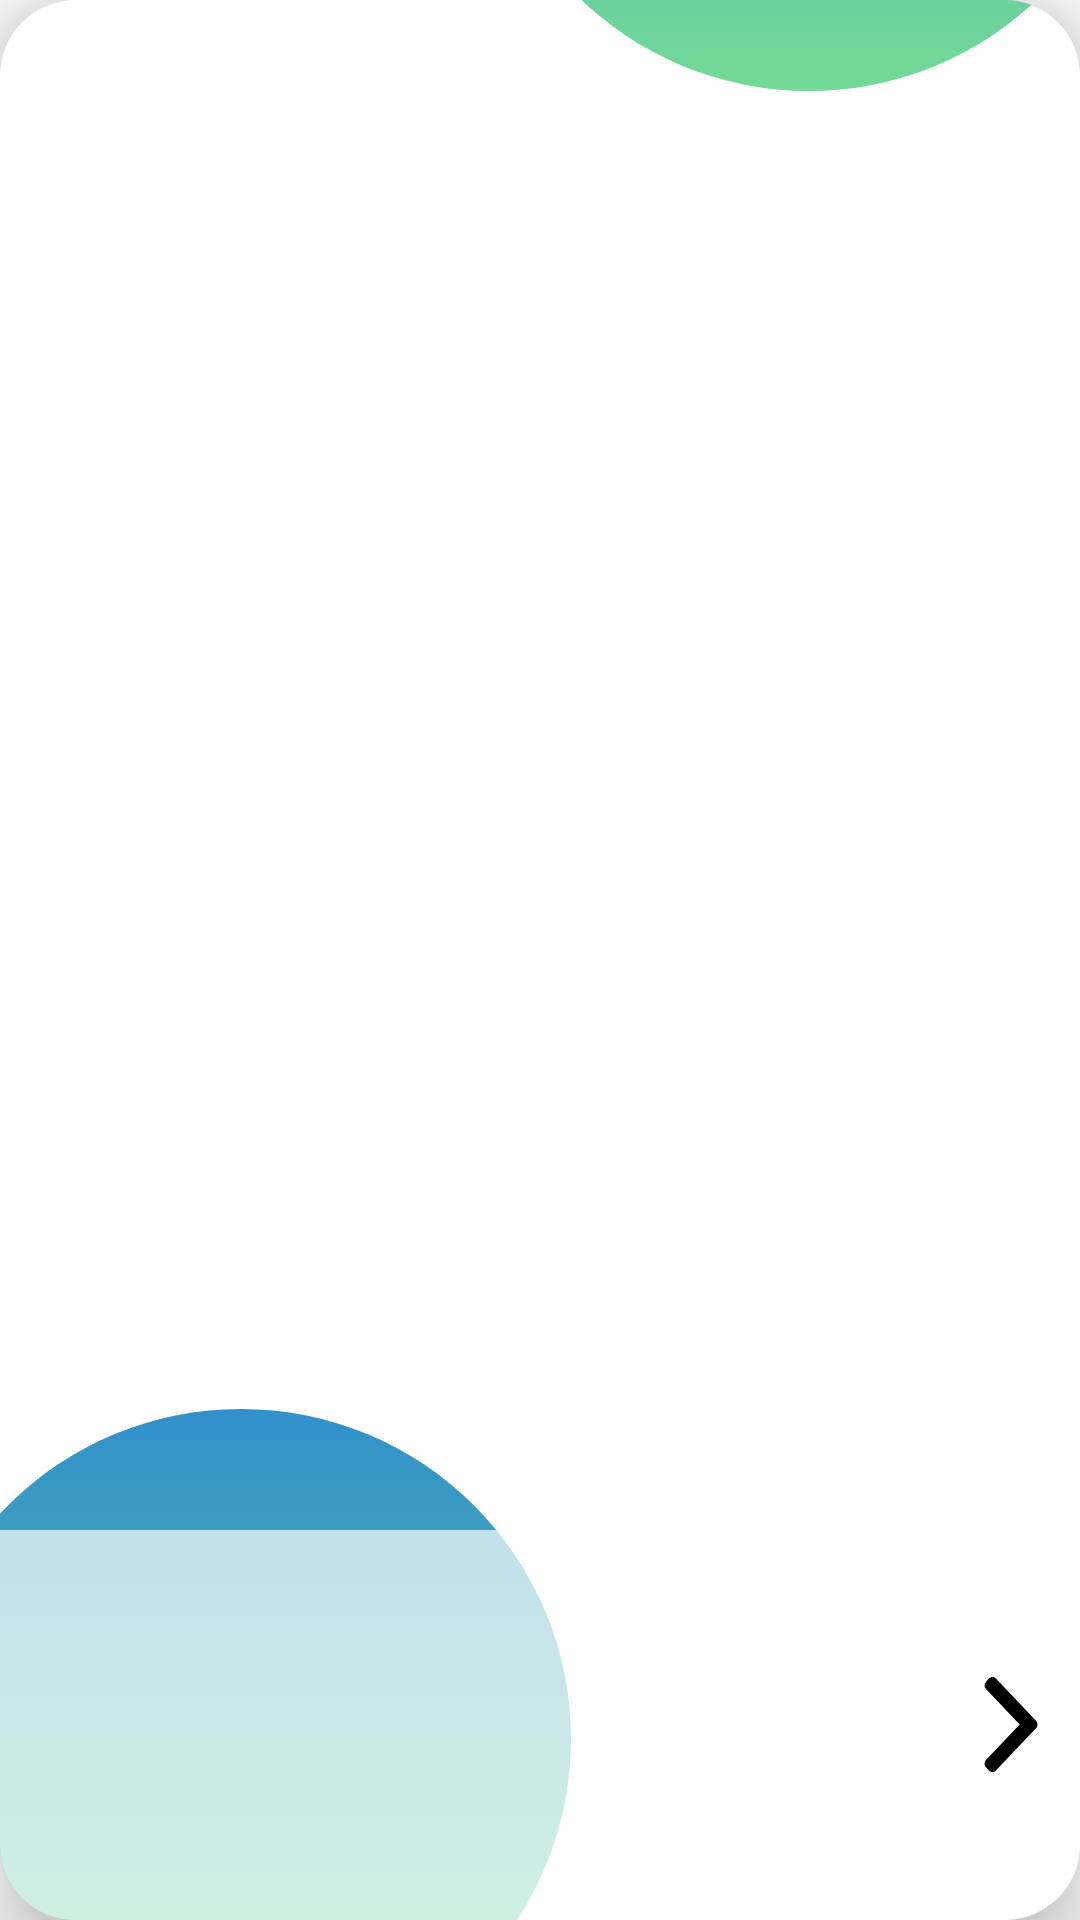

Where icons sit on this 1080*1920 app screen, as (x1, y1, x2, y2):
right arrow: (984, 1677, 1038, 1772)
